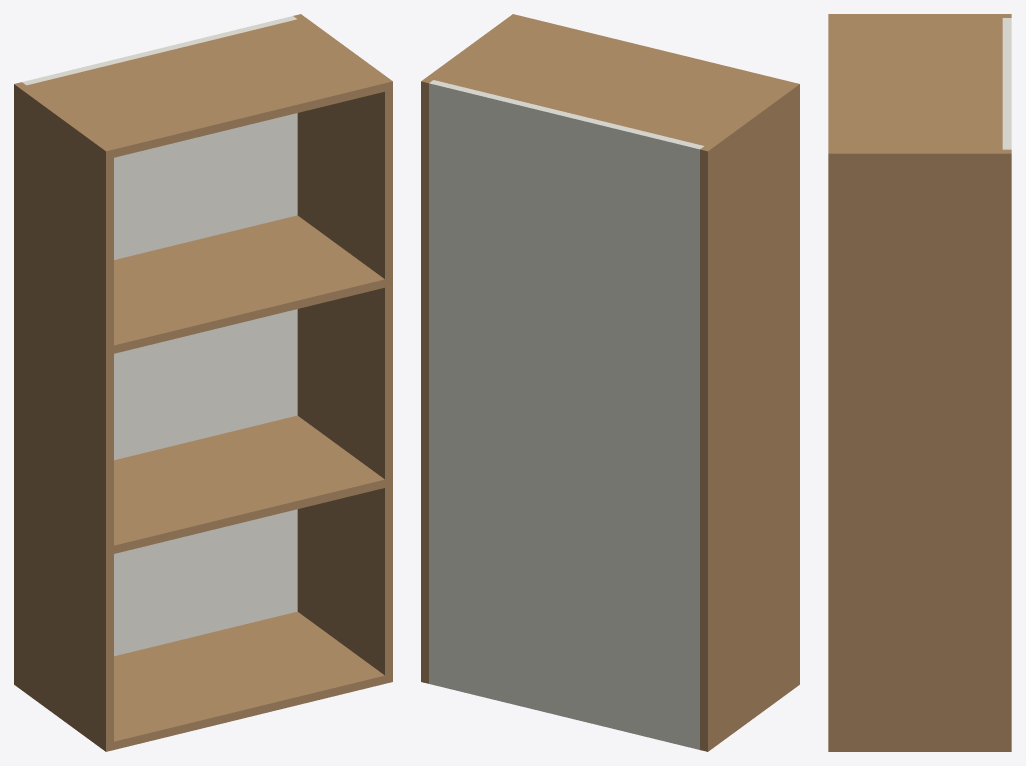
3 views of the same model, side by side, from view 1: azimuth 30°, elevation 25°; view 2: azimuth 150°, elevation 25°; view 3: azimuth 270°, elevation 25° (orthographic).
Parts seen in each view (by area): view 1: Side_0, Back, Side_1, Shelf_3, Shelf_1, Shelf_0, Shelf_2; view 2: Back, Side_0, Shelf_3, Side_1; view 3: Side_1, Shelf_3, Back, Side_0.
Part boxes in pixels (x1,y1,x2,y2): Side_0: (14,82,113,751); Back: (22,16,297,656); Side_1: (293,14,392,683); Shelf_3: (27,19,384,157); Shelf_1: (114,415,384,553); Shelf_0: (114,611,384,749); Shelf_2: (114,215,384,353); Back: (429,80,703,749); Side_0: (700,82,799,751); Shelf_3: (434,16,791,145); Side_1: (421,14,520,683); Side_1: (828,149,1011,751); Shelf_3: (828,18,1002,149); Back: (1002,18,1011,149); Side_0: (828,14,1011,17).
Bounding box in the file's own units: 0.9 × 1.8 × 0.5.
